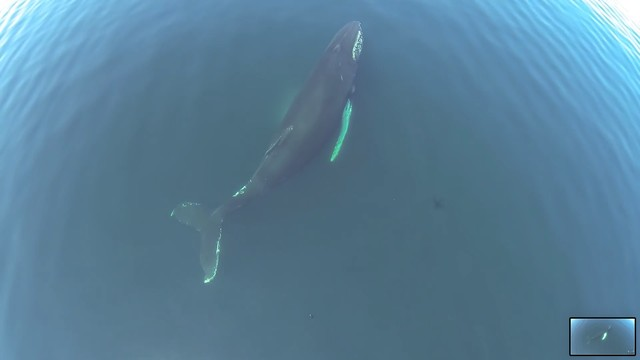whale: (165, 15, 370, 293)
